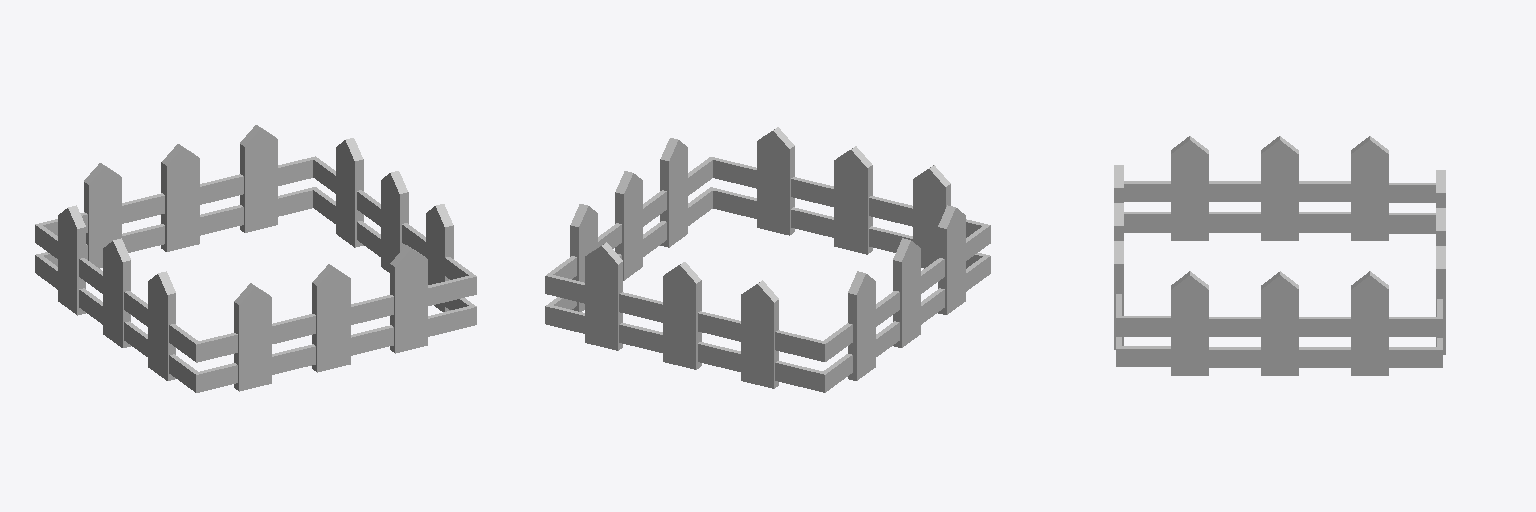
Rendered from fence.obj.
3 views of the same model, side by side, from view 1: azimuth 30°, elevation 25°; view 2: azimuth 150°, elevation 25°; view 3: azimuth 270°, elevation 25° (orthographic).
Parts seen in each view (by area): view 1: FENCE; view 2: FENCE; view 3: FENCE.
Part boxes in pixels (x1,y1,x2,y2): FENCE: (35,125,476,392); FENCE: (545,127,990,392); FENCE: (1114,136,1445,375).
Bounding box in the file's own units: 243 × 81.95 × 244.